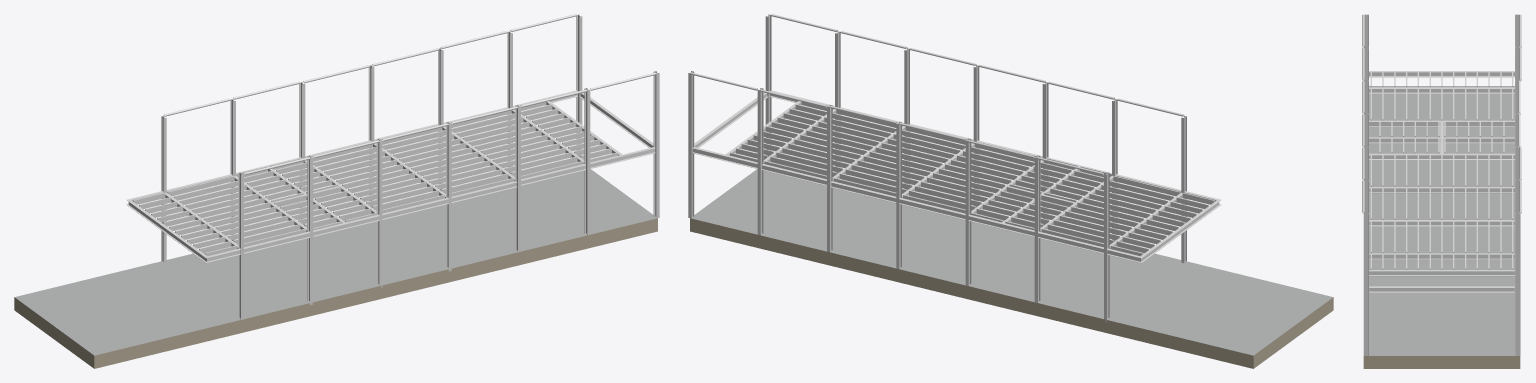
File: StructureR+2Frame.fbx
The picture shows the model from 3 angles, left to right: view 1: azimuth 30°, elevation 25°; view 2: azimuth 150°, elevation 25°; view 3: azimuth 270°, elevation 25°; orthographic projection.
Parts seen in each view (by area): view 1: Sol Radier [1206619], Sol Radier [495352], IPE200 200UB25.4 [1116436], HEA200 200UB25.4 [1096385], HEA200 200UB25.4 [1436866], HEA200 200UB25.4 [1098642], HEA200 200UB25.4 [1096419], HEA200 200UB25.4 [1436526], HEA200 200UB25.4 [1436418], HEA200 200UB25.4 [1436901], IPE200 200UB25.4 [1116483], HEA200 200UB25.4 [1114995] (+8 smaller); view 2: Sol Radier [1206619], Sol Radier [495352], IPE200 200UB25.4 [1116483], HEA200 200UB25.4 [1471519], HEA200 200UB25.4 [1114995], HEA200 200UB25.4 [1046264], HEA200 200UB25.4 [1096413], HEA200 200UB25.4 [1436414], HEA200 200UB25.4 [1436726], HEA200 200UB25.4 [1436521], HEA200 200UB25.4 [1098642], IPE200 200UB25.4 [1116436] (+8 smaller); view 3: Sol Radier [1206619], Sol Radier [495352], IPE200 200UB25.4 [1116502], IPE200 200UB25.4 [1176054], IPE200 200UB25.4 [1175513], IPE200 200UB25.4 [1116461], IPE200 200UB25.4 [1438725], IPE200 200UB25.4 [1117306], IPE200 200UB25.4 [1176046], IPE200 200UB25.4 [1176035], IPE200 200UB25.4 [1174038], IPE200 200UB25.4 [1175999] (+12 smaller).
Part boxes in pixels (box(x1,y1,x2,y2)): Sol Radier [1206619]: box(165, 162, 657, 332); Sol Radier [495352]: box(14, 261, 242, 368); IPE200 200UB25.4 [1116436]: box(206, 181, 517, 262); HEA200 200UB25.4 [1096385]: box(307, 155, 313, 305); HEA200 200UB25.4 [1436866]: box(584, 88, 590, 235); HEA200 200UB25.4 [1098642]: box(653, 71, 659, 218); HEA200 200UB25.4 [1096419]: box(376, 138, 382, 287); HEA200 200UB25.4 [1436526]: box(446, 121, 451, 271); HEA200 200UB25.4 [1436418]: box(238, 172, 243, 319); HEA200 200UB25.4 [1436901]: box(515, 105, 520, 252); IPE200 200UB25.4 [1116483]: box(126, 124, 438, 204); HEA200 200UB25.4 [1114995]: box(576, 14, 582, 156); Sol Radier [1206619]: box(690, 162, 1182, 332); Sol Radier [495352]: box(1105, 261, 1333, 368); IPE200 200UB25.4 [1116483]: box(830, 181, 1141, 262); HEA200 200UB25.4 [1471519]: box(757, 88, 763, 235); HEA200 200UB25.4 [1114995]: box(688, 71, 694, 218); HEA200 200UB25.4 [1046264]: box(1034, 155, 1040, 302); HEA200 200UB25.4 [1096413]: box(965, 138, 971, 285); HEA200 200UB25.4 [1436414]: box(1104, 172, 1109, 322); HEA200 200UB25.4 [1436726]: box(827, 105, 832, 252); HEA200 200UB25.4 [1436521]: box(896, 121, 901, 268); HEA200 200UB25.4 [1098642]: box(765, 14, 771, 156); IPE200 200UB25.4 [1116436]: box(909, 124, 1221, 204); Sol Radier [1206619]: box(1363, 160, 1520, 368); Sol Radier [495352]: box(1369, 86, 1514, 153); IPE200 200UB25.4 [1116502]: box(1369, 286, 1514, 292); IPE200 200UB25.4 [1176054]: box(1369, 270, 1514, 276); IPE200 200UB25.4 [1175513]: box(1369, 137, 1514, 143); IPE200 200UB25.4 [1116461]: box(1369, 87, 1514, 93); IPE200 200UB25.4 [1438725]: box(1369, 153, 1514, 159); IPE200 200UB25.4 [1117306]: box(1369, 120, 1514, 126); IPE200 200UB25.4 [1176046]: box(1369, 253, 1514, 259); IPE200 200UB25.4 [1176035]: box(1369, 220, 1514, 226); IPE200 200UB25.4 [1174038]: box(1369, 71, 1514, 77); IPE200 200UB25.4 [1175999]: box(1369, 187, 1514, 193).
Size of the model in its own units: 964 by 260 by 240.
